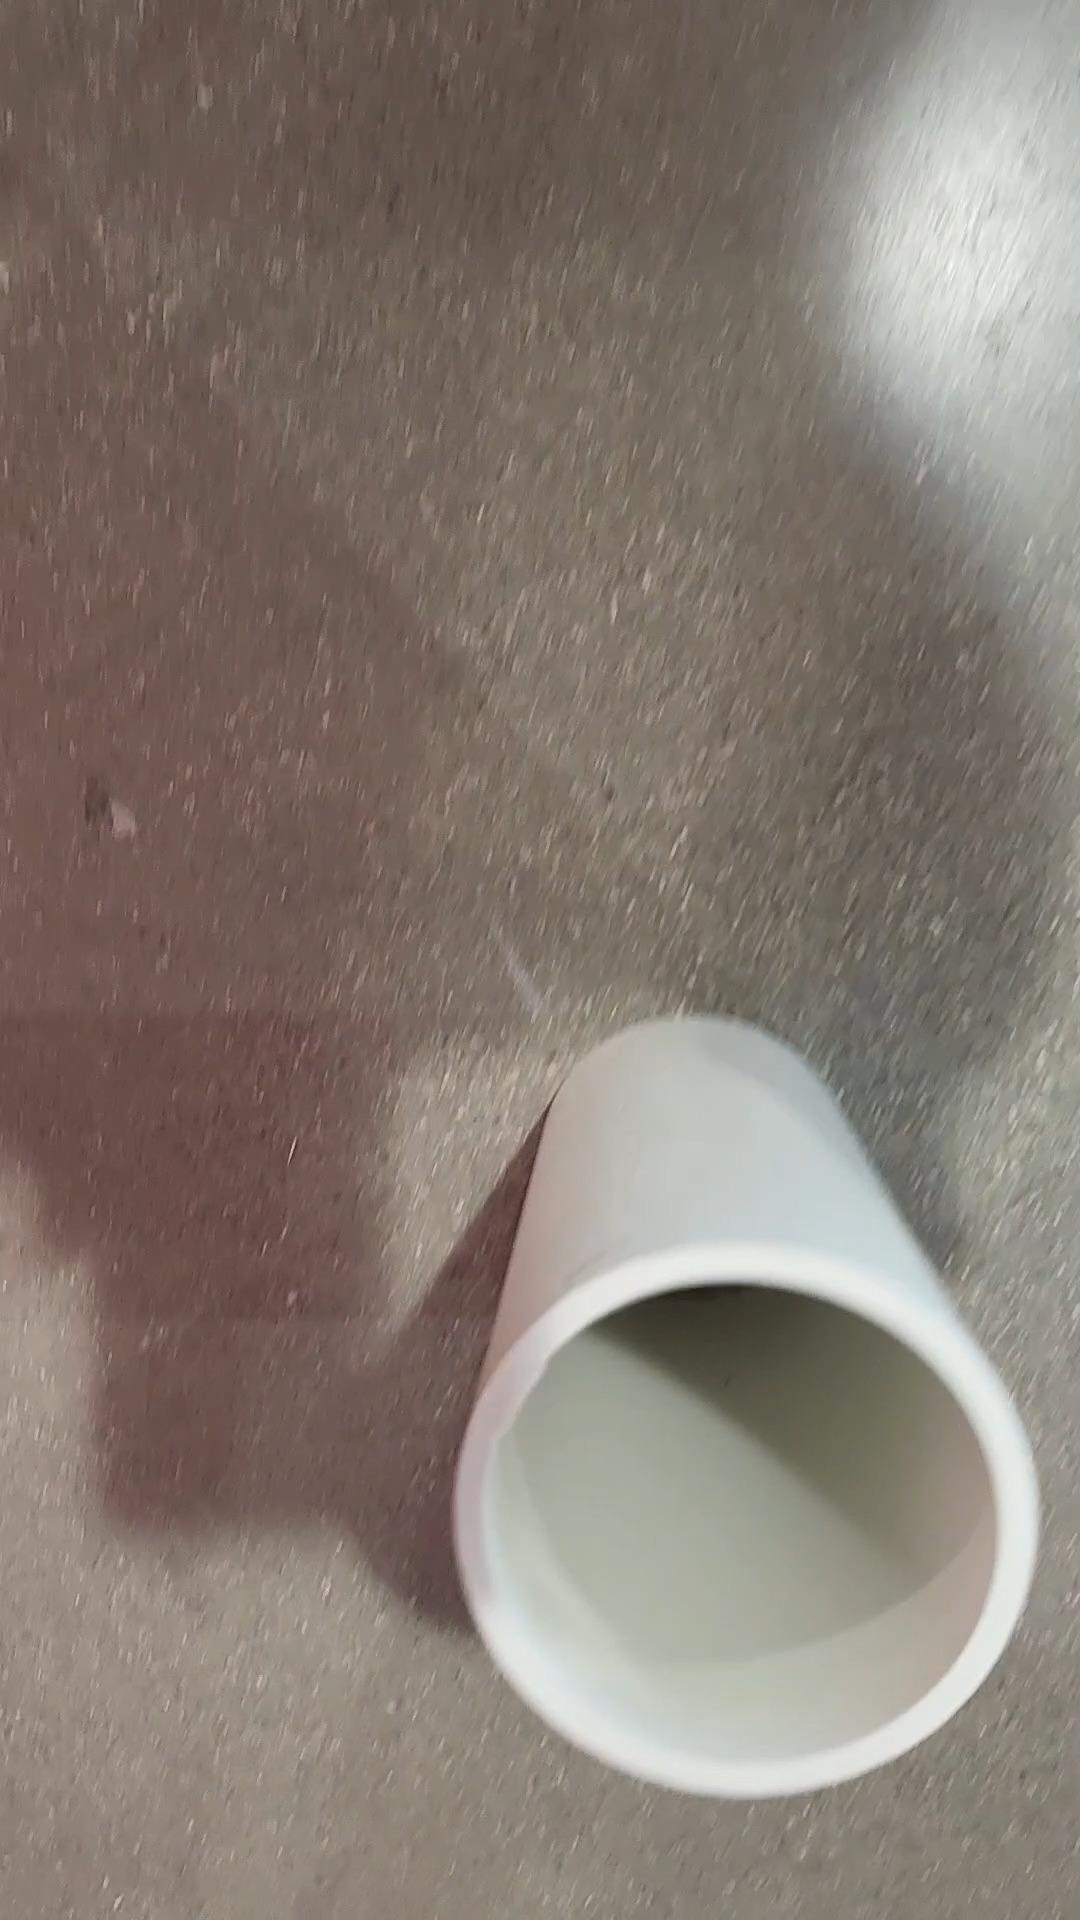coral: (450, 1017, 1038, 1798)
